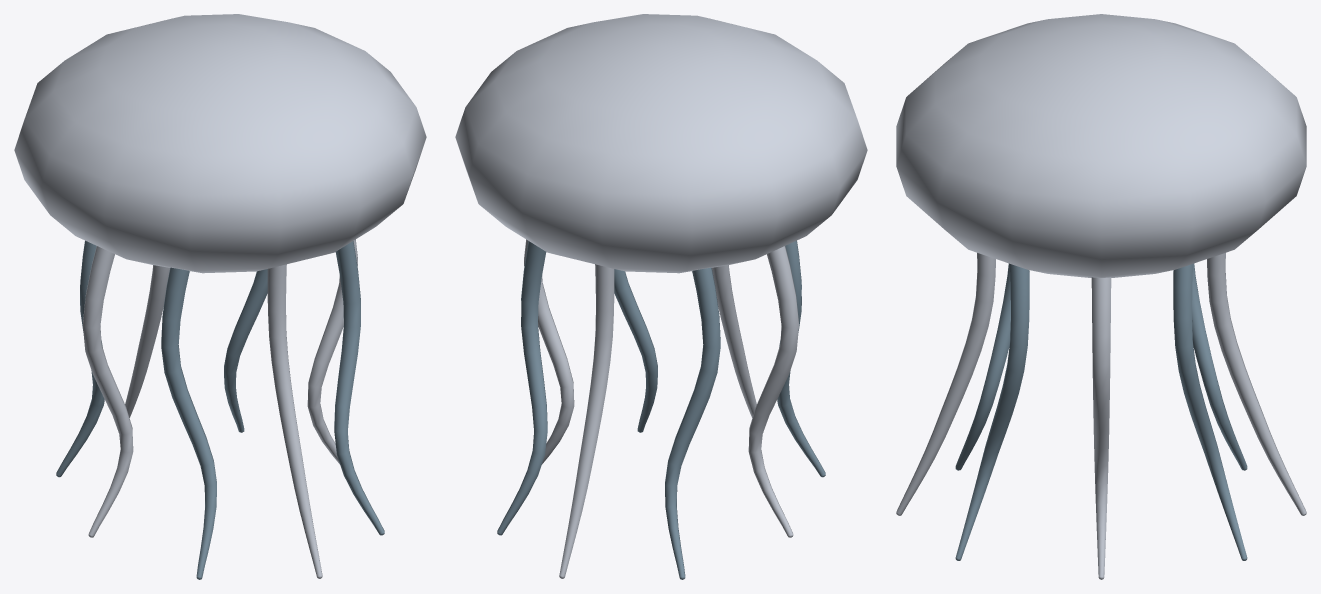
Rendered from jelly_moon.glb.
The picture shows the model from 3 angles, left to right: view 1: azimuth 30°, elevation 25°; view 2: azimuth 150°, elevation 25°; view 3: azimuth 270°, elevation 25°; orthographic projection.
Visible parts, largest first — view 1: moon-jellyfish; view 2: moon-jellyfish; view 3: moon-jellyfish.
Boxes of the visible parts, x1=… form: moon-jellyfish: x1=14, y1=14, x2=426, y2=579; moon-jellyfish: x1=455, y1=14, x2=867, y2=579; moon-jellyfish: x1=896, y1=14, x2=1306, y2=579.
Size of the model in its own units: 0.3282 by 0.4028 by 0.32.
